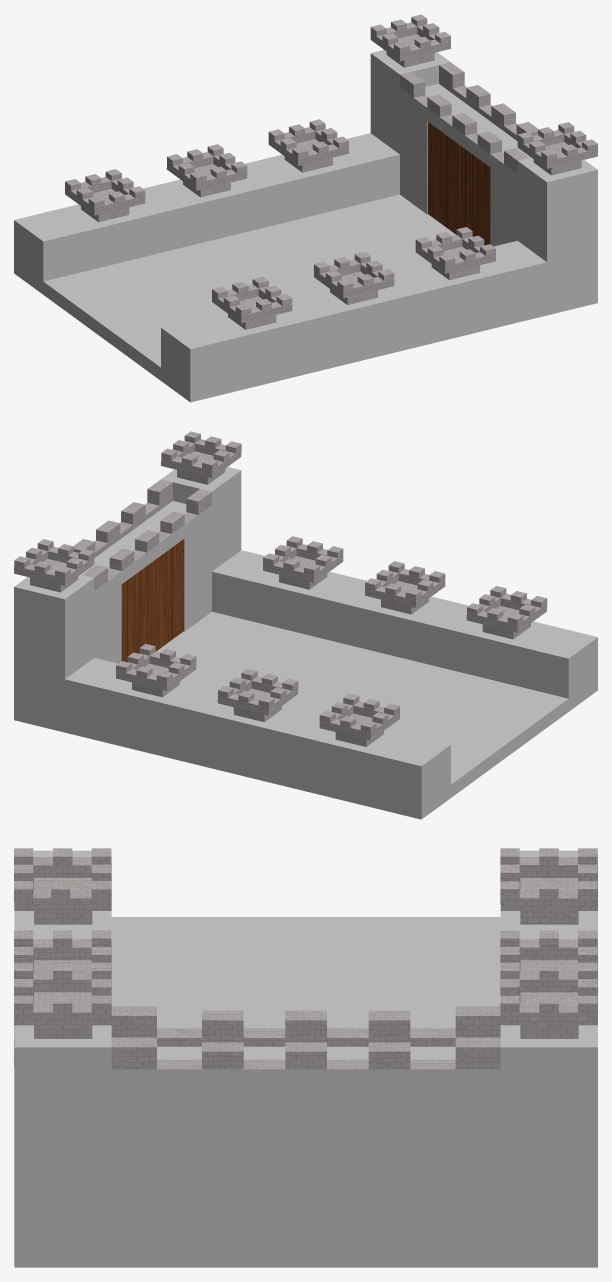
Rendered from Castle Trail+Gate (Last)(T).fbx.
The picture shows the model from 3 angles, top to bottom: view 1: azimuth 30°, elevation 25°; view 2: azimuth 150°, elevation 25°; view 3: azimuth 270°, elevation 25°; orthographic projection. The views are drawn at different scales.
Visible parts, largest first — view 1: Castle Trail Final, Doors; view 2: Castle Trail Final, Doors; view 3: Castle Trail Final.
Boxes of the visible parts, x1=… form: Castle Trail Final: x1=14, y1=14, x2=597, y2=402; Doors: x1=428, y1=122, x2=490, y2=245; Castle Trail Final: x1=14, y1=431, x2=597, y2=819; Doors: x1=121, y1=539, x2=183, y2=662; Castle Trail Final: x1=14, y1=848, x2=597, y2=1267.
Bounding box in the file's own units: 1600 × 599 × 1201.
